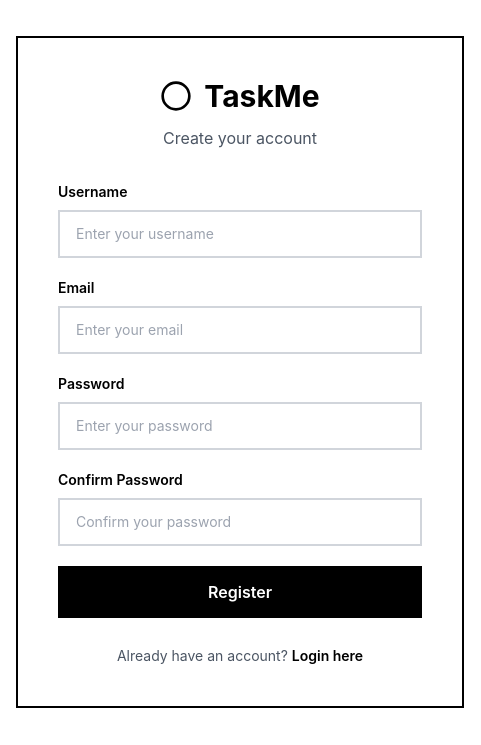
Test case: Register Component › shows validation error when password is too short
Type "testuser" into the field labelled "Username" at {"x": 240, "y": 234}, box [58,210,422,258]
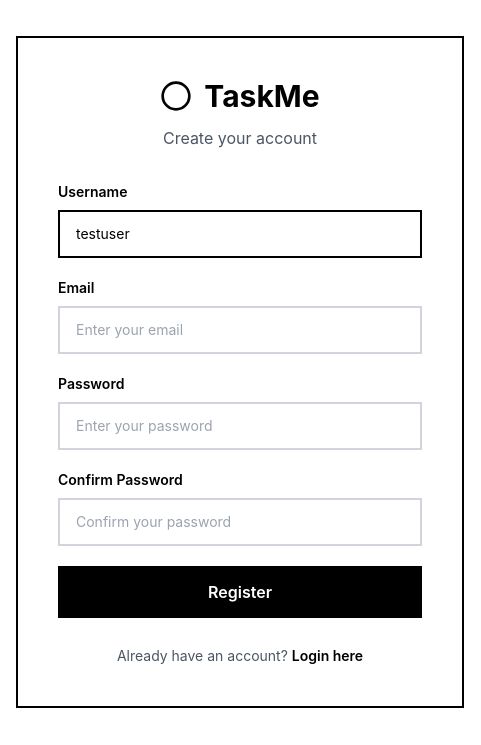
Type "test@example.com" into the field labelled "Email" at {"x": 240, "y": 330}, box [58,306,422,354]
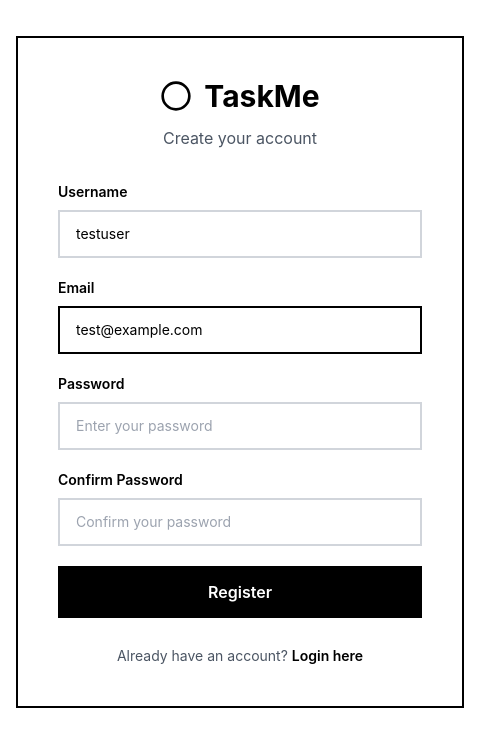
Type "12345" into the password field labelled "Password" at {"x": 240, "y": 426}, box [58,402,422,450]
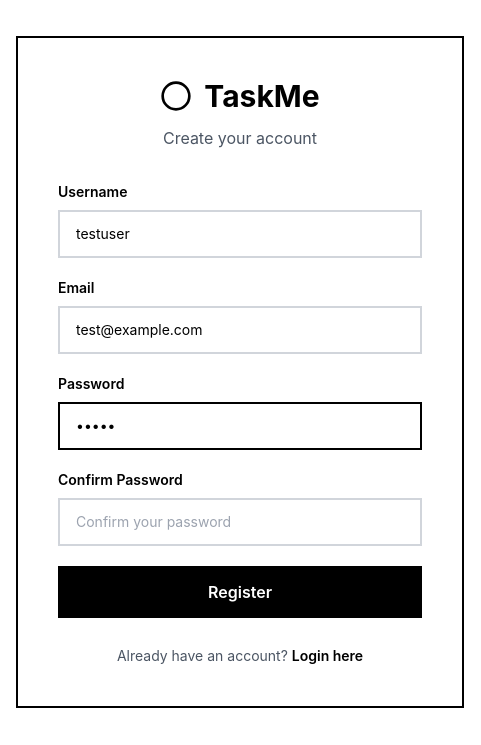
Click the button "Register" at {"x": 240, "y": 592}, box [58,566,422,618]
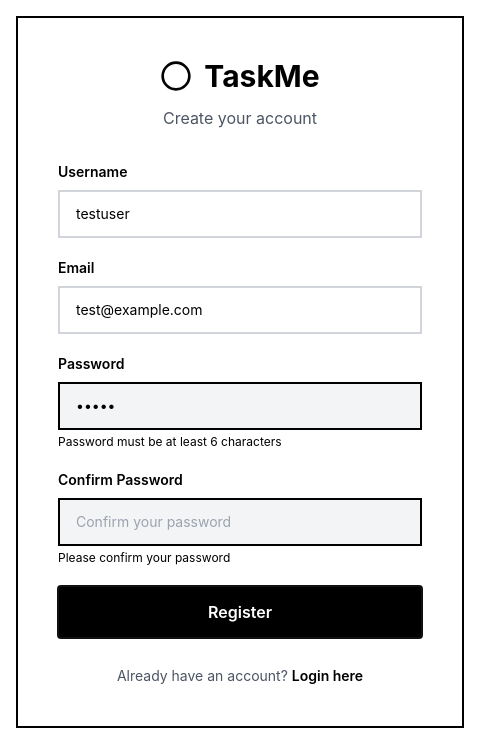
Result: the text "Password must be at least 6 characters" is shown at [58,434,282,449]
